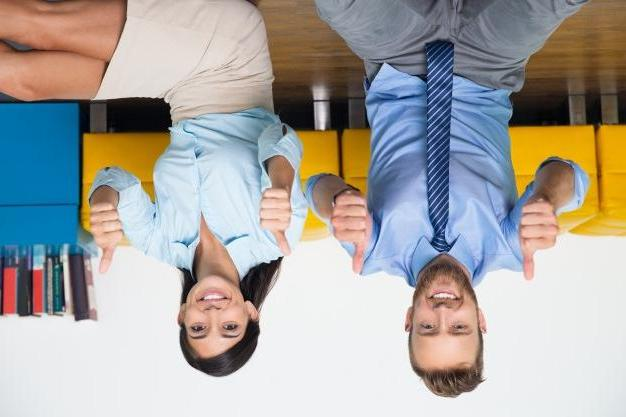thumbsdown: (330, 191, 369, 274), (520, 202, 560, 281), (88, 201, 124, 274), (258, 187, 292, 257)
